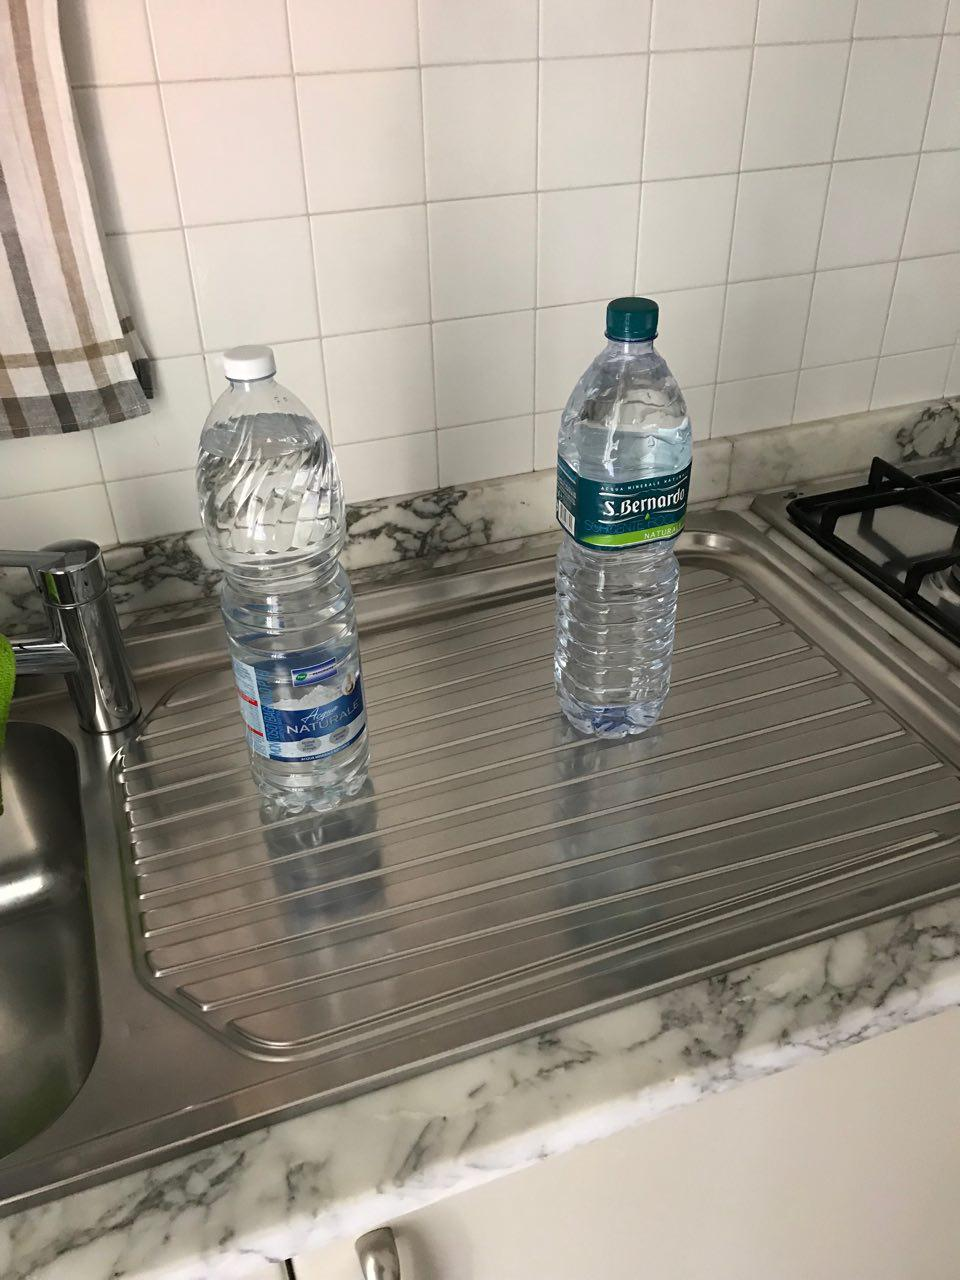san_bernardo: (553, 295, 693, 741)
